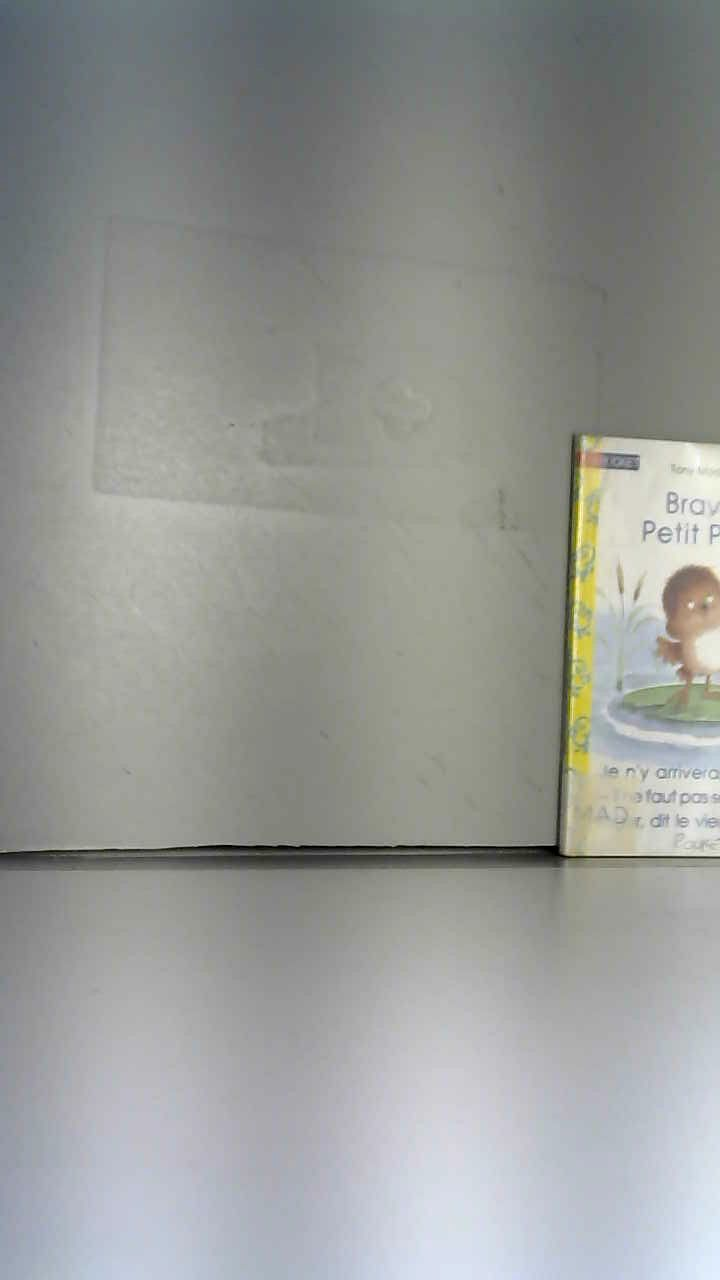book: (500, 415, 720, 884)
